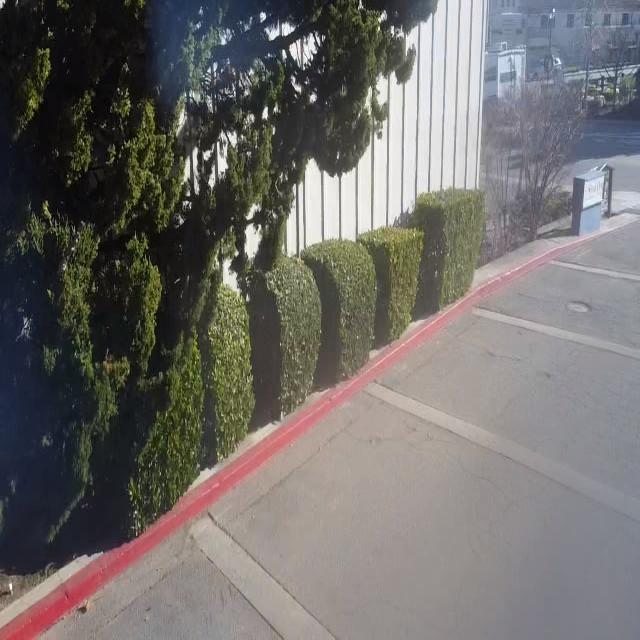Building: (290, 0, 489, 259)
Tree: (521, 71, 588, 243), (484, 94, 524, 251)
